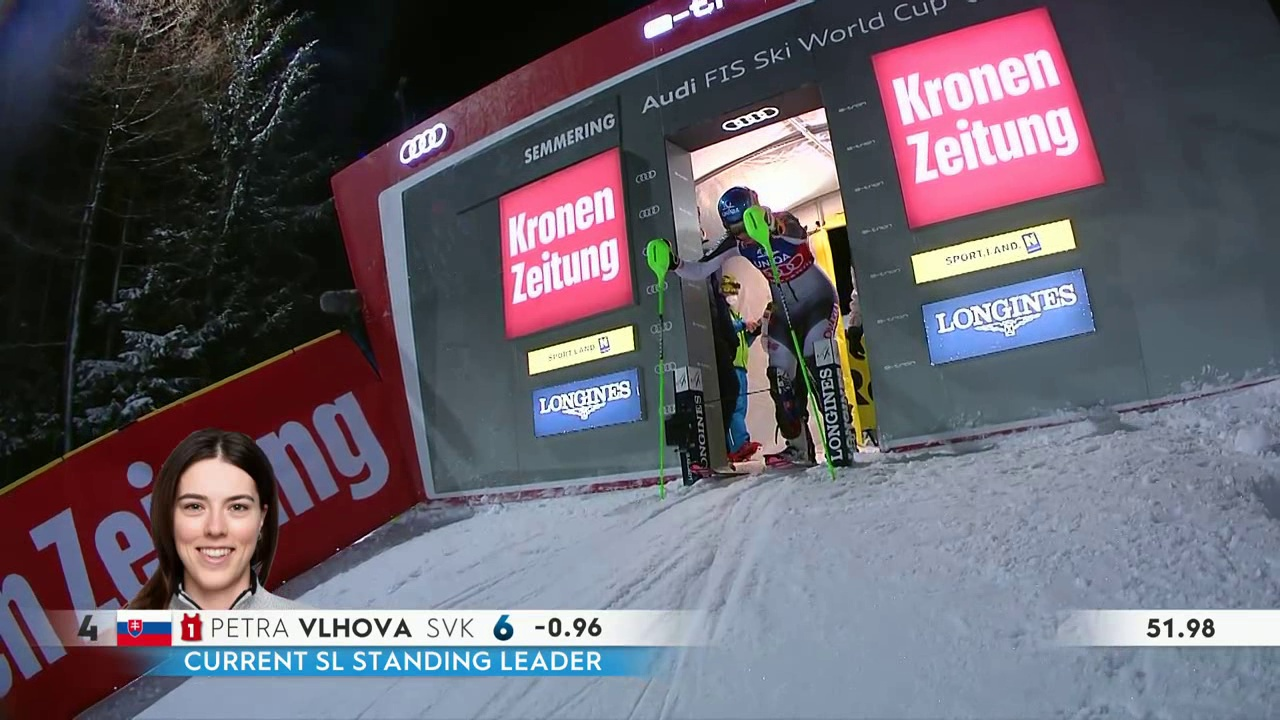audi: (389, 119, 462, 172), (711, 104, 787, 138), (837, 98, 869, 118), (634, 169, 659, 188)
kronenzeitung: (1, 360, 426, 575), (903, 41, 1061, 197), (504, 182, 624, 309)
longines: (921, 277, 1095, 358), (529, 375, 645, 440), (818, 358, 860, 470)
